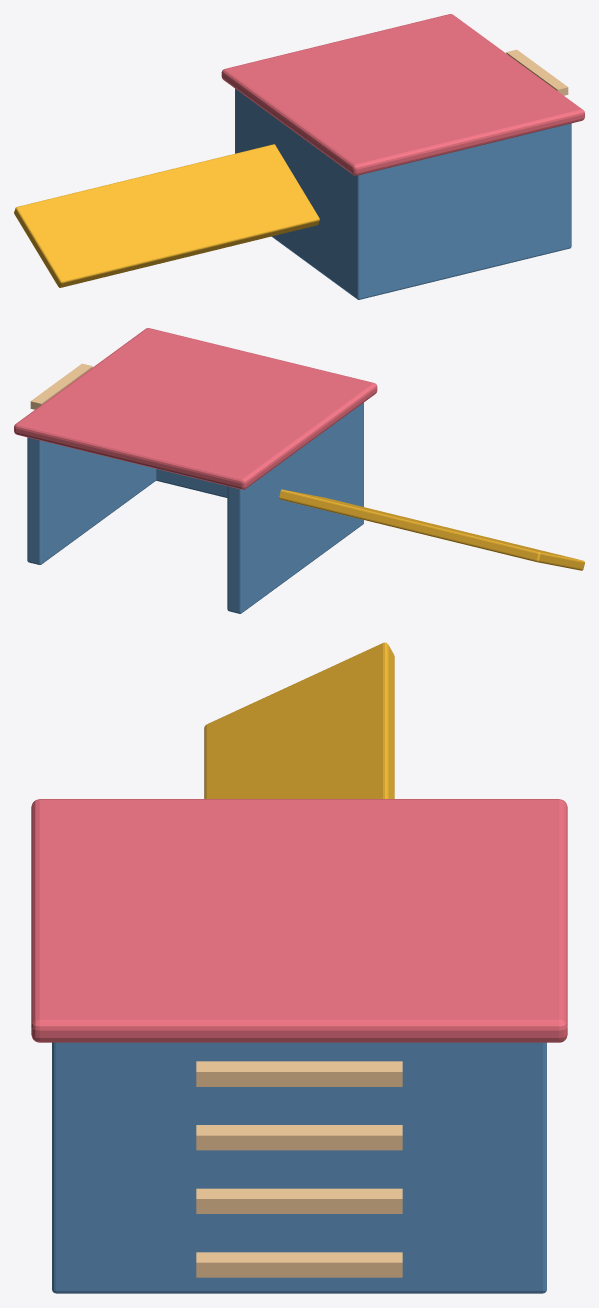
Rendered from slide.glb.
3 views of the same model, one above another, from view 1: azimuth 30°, elevation 25°; view 2: azimuth 150°, elevation 25°; view 3: azimuth 270°, elevation 25° (orthographic). The views are drawn at different scales.
Visible parts, largest first — view 1: slide, slide_back, slide_ramp, slide_side0, slide_side1, slide_rung3; view 2: slide, slide_side0, slide_side1, slide_ramp, slide_back, slide_rung3; view 3: slide, slide_side1, slide_ramp, slide_back, slide_rung0, slide_rung1, slide_rung2, slide_rung3.
Boxes of the visible parts, bbox=[...] form: slide: bbox=[221, 14, 584, 175]; slide_back: bbox=[350, 126, 571, 299]; slide_ramp: bbox=[14, 144, 319, 287]; slide_side0: bbox=[235, 88, 370, 299]; slide_side1: bbox=[559, 123, 571, 250]; slide_rung3: bbox=[506, 49, 568, 95]; slide: bbox=[14, 328, 377, 489]; slide_side0: bbox=[227, 407, 357, 613]; slide_side1: bbox=[27, 437, 156, 564]; slide_ramp: bbox=[279, 489, 584, 570]; slide_back: bbox=[156, 402, 363, 528]; slide_rung3: bbox=[30, 363, 92, 409]; slide: bbox=[31, 799, 567, 1042]; slide_side1: bbox=[52, 1042, 546, 1293]; slide_ramp: bbox=[204, 642, 394, 798]; slide_back: bbox=[52, 1042, 80, 1293]; slide_rung0: bbox=[196, 1252, 402, 1277]; slide_rung1: bbox=[196, 1188, 402, 1213]; slide_rung2: bbox=[196, 1125, 402, 1150]; slide_rung3: bbox=[196, 1061, 402, 1086].
Size of the model in its own units: 2.83 by 0.75 by 1.3.
